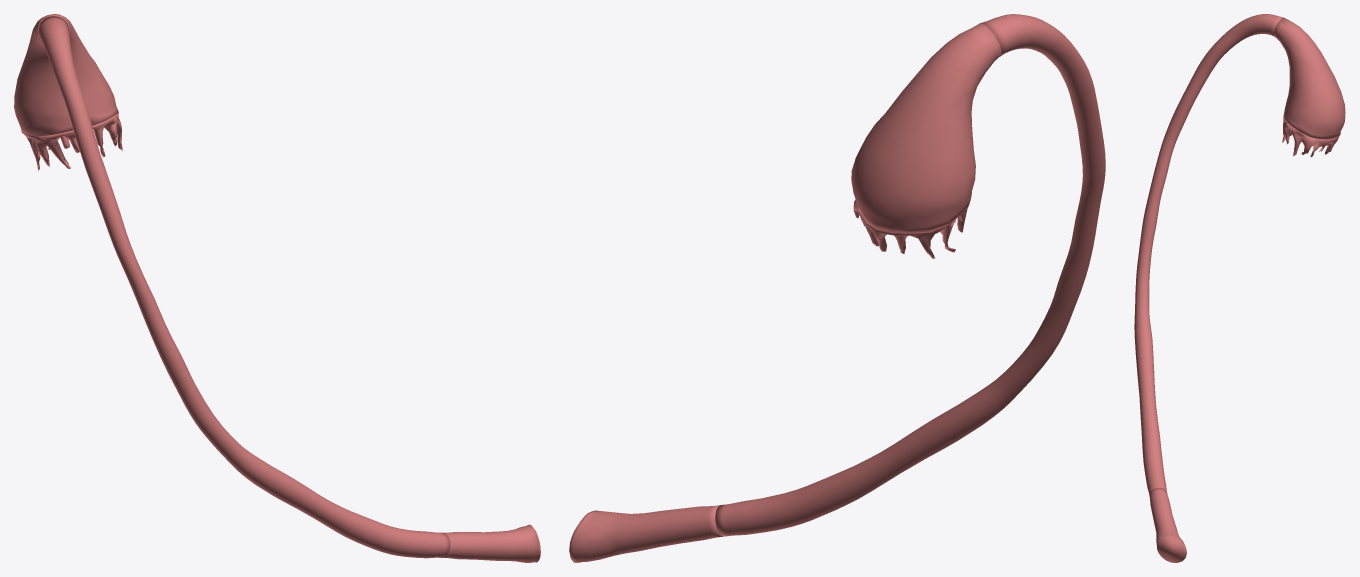
Rendered from vh_f_fallopian_tube_r-40.glb.
The picture shows the model from 3 angles, left to right: view 1: azimuth 30°, elevation 25°; view 2: azimuth 150°, elevation 25°; view 3: azimuth 270°, elevation 25°; orthographic projection. The views are drawn at different scales.
Parts seen in each view (by area): view 1: VH_F_ampulla_of_uterine_tube_R, VH_F_uterine_tube_infundibulum_R, VH_F_isthmus_of_fallopian_tube_R, VH_F_fibria_of_uterine_tube_R; view 2: VH_F_ampulla_of_uterine_tube_R, VH_F_uterine_tube_infundibulum_R, VH_F_isthmus_of_fallopian_tube_R, VH_F_fibria_of_uterine_tube_R; view 3: VH_F_ampulla_of_uterine_tube_R, VH_F_uterine_tube_infundibulum_R, VH_F_isthmus_of_fallopian_tube_R, VH_F_fibria_of_uterine_tube_R.
Part boxes in pixels (x1,y1,x2,y2): VH_F_ampulla_of_uterine_tube_R: [37, 16, 450, 558]; VH_F_uterine_tube_infundibulum_R: [14, 14, 118, 135]; VH_F_isthmus_of_fallopian_tube_R: [442, 524, 540, 562]; VH_F_fibria_of_uterine_tube_R: [22, 112, 122, 170]; VH_F_ampulla_of_uterine_tube_R: [715, 14, 1105, 536]; VH_F_uterine_tube_infundibulum_R: [851, 23, 1001, 233]; VH_F_isthmus_of_fallopian_tube_R: [569, 505, 722, 562]; VH_F_fibria_of_uterine_tube_R: [853, 199, 967, 258]; VH_F_ampulla_of_uterine_tube_R: [1134, 14, 1283, 493]; VH_F_uterine_tube_infundibulum_R: [1273, 18, 1345, 139]; VH_F_isthmus_of_fallopian_tube_R: [1149, 488, 1186, 562]; VH_F_fibria_of_uterine_tube_R: [1282, 117, 1339, 157].
Size of the model in its own units: 0.0344 by 0.0446 by 0.0209.
